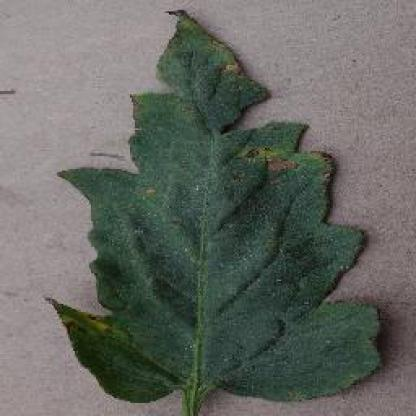bad leaf: (41, 0, 392, 405)
